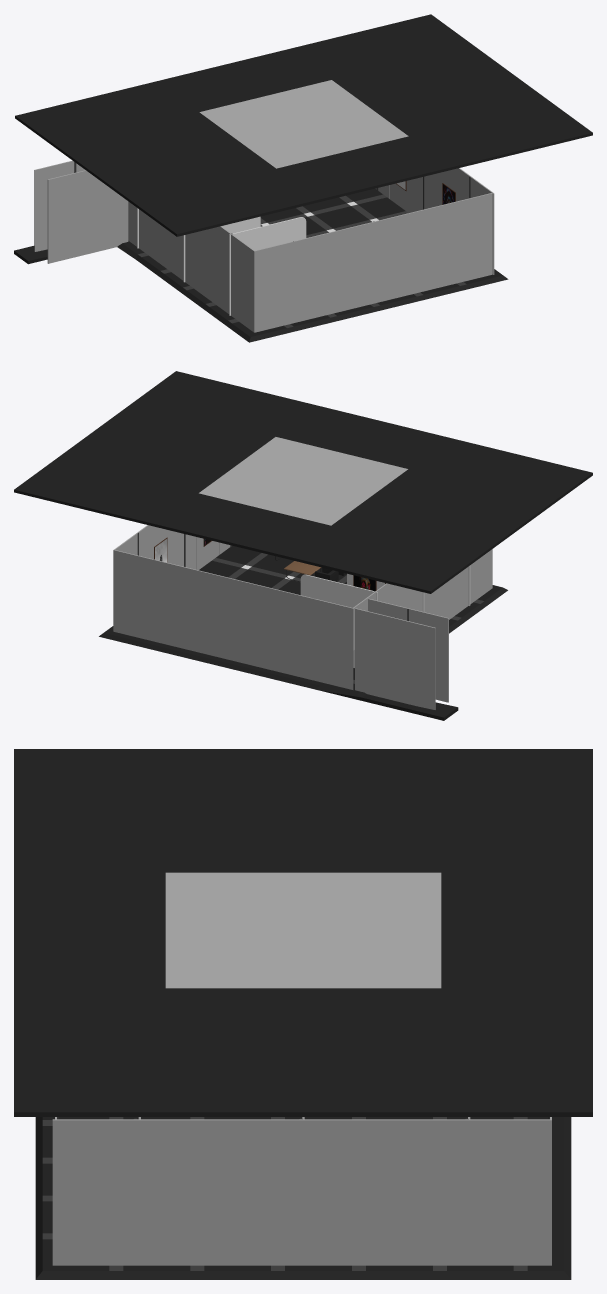
Rendered from paintings.fbx.
3 renders of one model, top to bottom at view 1: azimuth 30°, elevation 25°; view 2: azimuth 150°, elevation 25°; view 3: azimuth 270°, elevation 25°, orthographic. The views are drawn at different scales.
Parts seen in each view (by area): view 1: roof, floor, Cube.002, Cube.006, Cube.005, Cube.016, Cube.007, Cube.011, Cube.014, Cube.017, Cube.008, Cube.013 (+2 smaller); view 2: roof, floor, Cube.017, Cube.009, Cube.003, Cube.010, Cube.016, Cube.007, Cube.015, Cube.008, Cube.011, Cube.004 (+1 smaller); view 3: roof, Cube.008, Cube.012, Cube.004, floor.
Part boxes in pixels (x1,y1,x2,y2): roof: [15, 14, 592, 236]; floor: [14, 188, 508, 342]; Cube.002: [253, 231, 334, 332]; Cube.006: [413, 193, 492, 293]; Cube.005: [334, 212, 413, 312]; Cube.016: [47, 170, 128, 263]; Cube.007: [208, 226, 254, 331]; Cube.011: [161, 226, 207, 298]; Cube.014: [229, 217, 306, 315]; Cube.017: [34, 160, 85, 251]; Cube.008: [400, 171, 446, 212]; Cube.013: [128, 201, 161, 264]; roof: [14, 371, 592, 593]; floor: [99, 545, 507, 720]; Cube.017: [355, 608, 435, 709]; Cube.009: [113, 549, 193, 650]; Cube.003: [193, 569, 273, 670]; Cube.010: [272, 589, 352, 689]; Cube.016: [368, 598, 448, 702]; Cube.007: [445, 549, 491, 619]; Cube.015: [300, 574, 377, 667]; Cube.008: [161, 528, 207, 570]; Cube.011: [399, 584, 445, 616]; Cube.004: [114, 525, 161, 558]; roof: [14, 749, 592, 1116]; Cube.008: [218, 1118, 384, 1265]; Cube.012: [52, 1118, 218, 1265]; Cube.004: [384, 1118, 549, 1265]; floor: [35, 1117, 571, 1279].
Bounding box in the file's own units: 21103 × 6287 × 13978.
